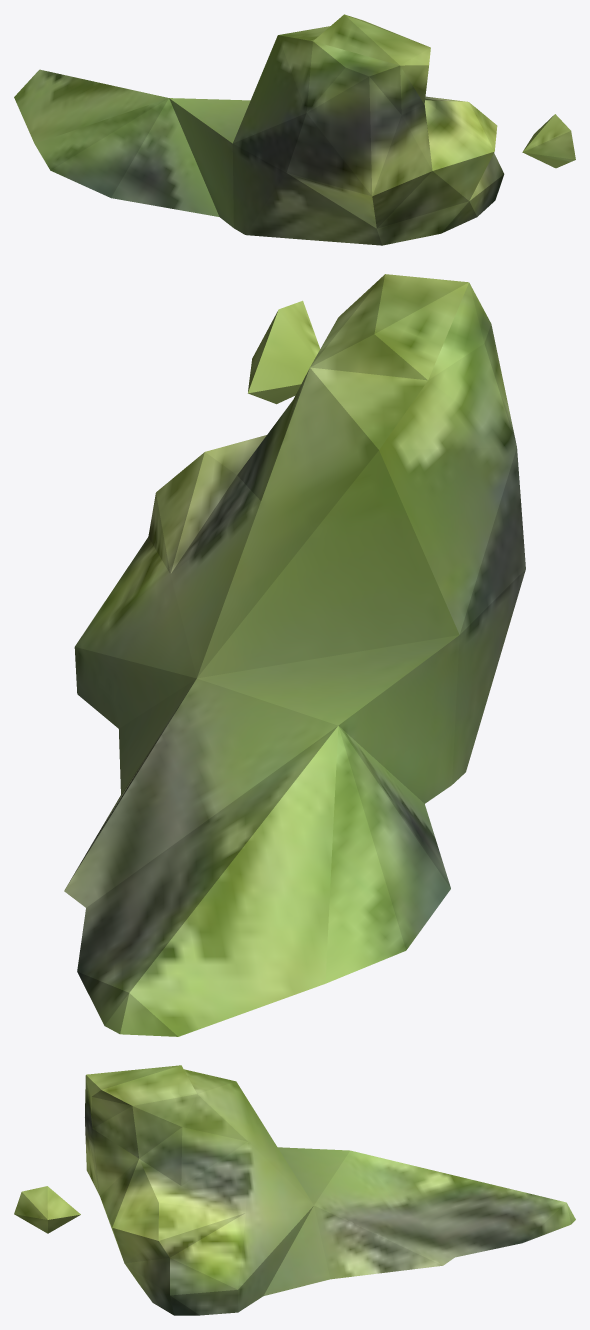
The picture shows the model from 3 angles, top to bottom: view 1: azimuth 30°, elevation 25°; view 2: azimuth 150°, elevation 25°; view 3: azimuth 270°, elevation 25°; orthographic projection. The views are drawn at different scales.
Bounding box in the file's own units: 5.81 × 3.93 × 10.6.
Materials: 1 (1 with a texture image).
